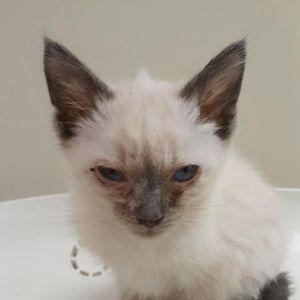siamese: (40, 24, 252, 248)
